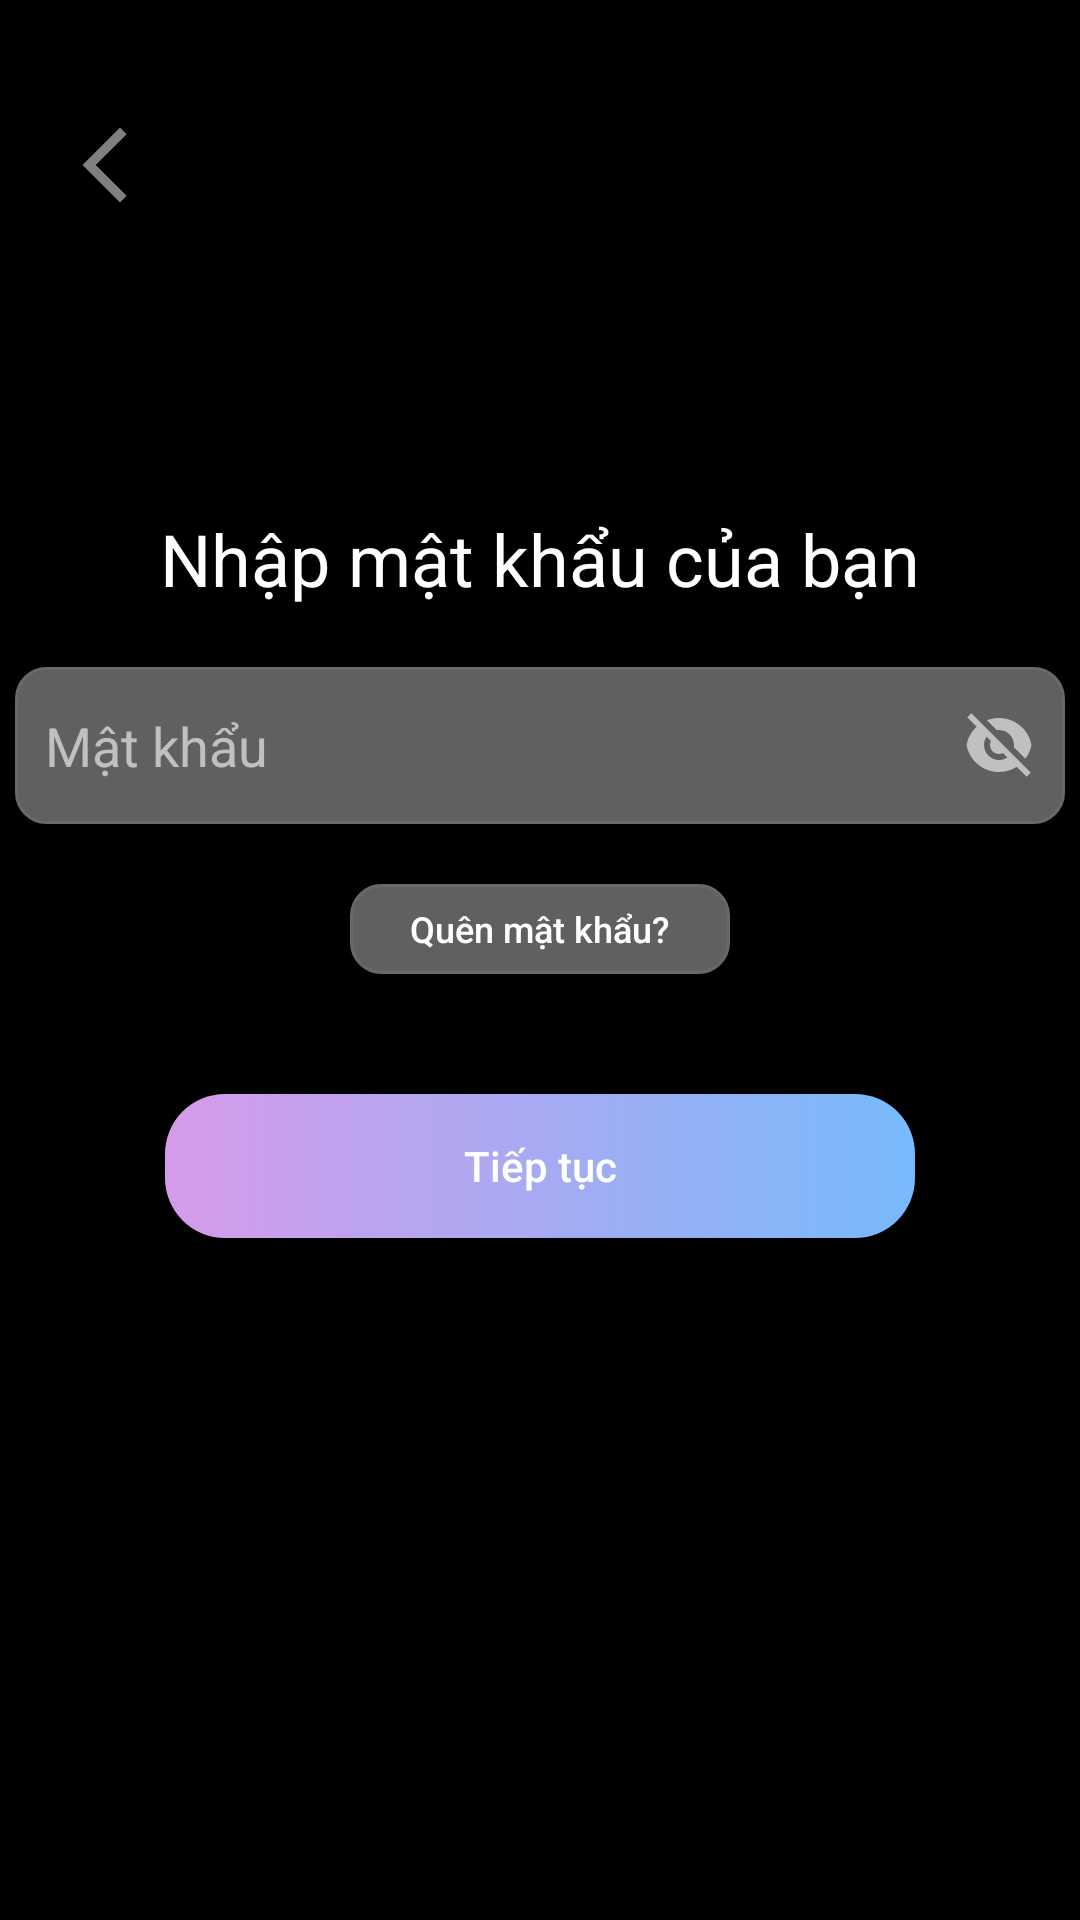

Icon click points for this 1080 x 1920 phone screenshot, format point (x, y):
back: point (105, 165)
